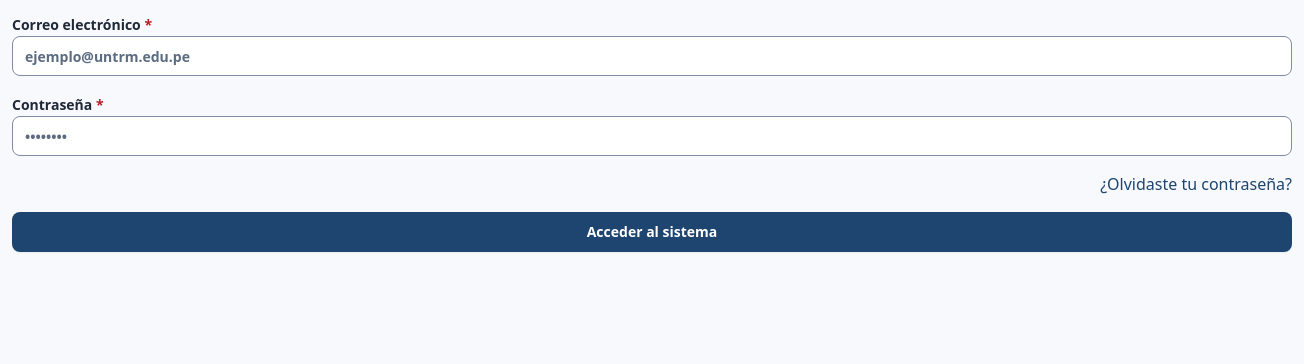
Test: LoginForm component › shows lockout message with waiting time on ACCOUNT_LOCKED (CA3)
Type "bloqueado@untrm.edu.pe" into the field labelled "Correo electrónico *" at (652,56), box left=12, top=36, right=1292, bottom=76
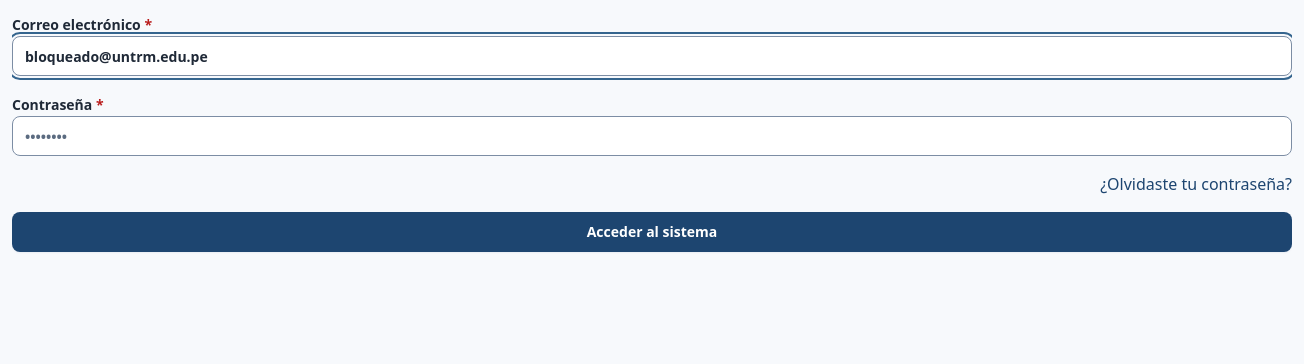
Type "CualquierClave123" into the password field labelled "Contraseña *" at (652,136), box left=12, top=116, right=1292, bottom=156
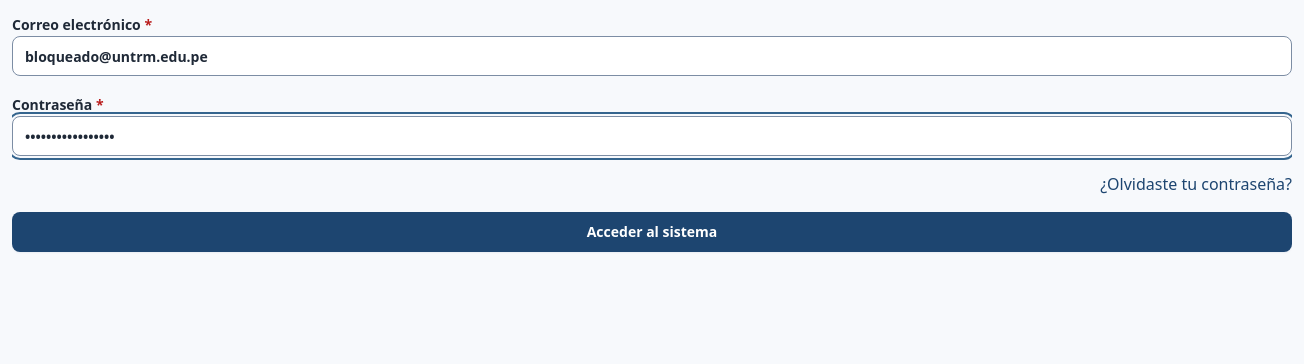
Click the button "Acceder al sistema" at (652,232), box left=12, top=212, right=1292, bottom=252
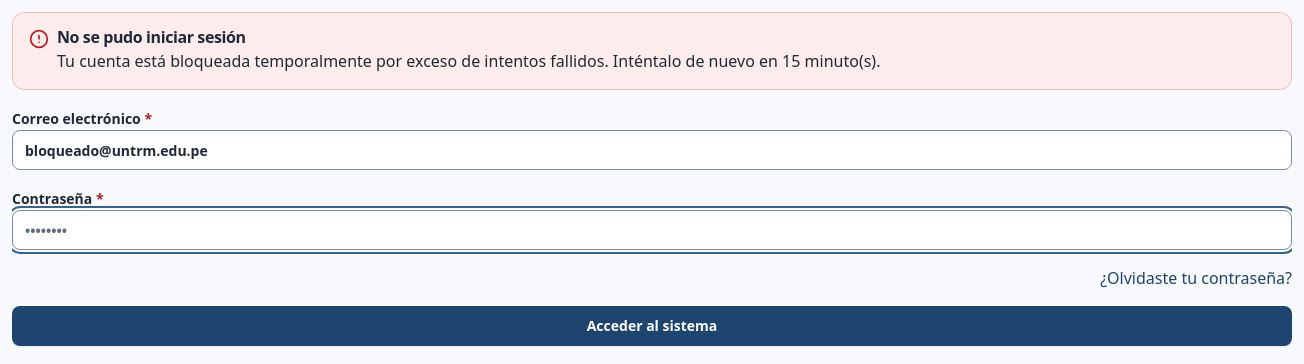
Expected: the message shows "tu cuenta está bloqueada temporalmente por exceso de intentos fallidos. inténtalo de nuevo en 15 minuto(s).", left=57, top=50, right=880, bottom=72
